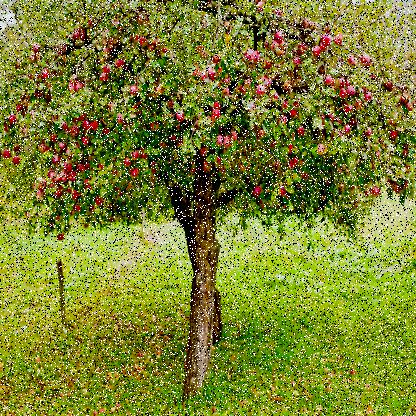Tree: (4, 0, 416, 403)
